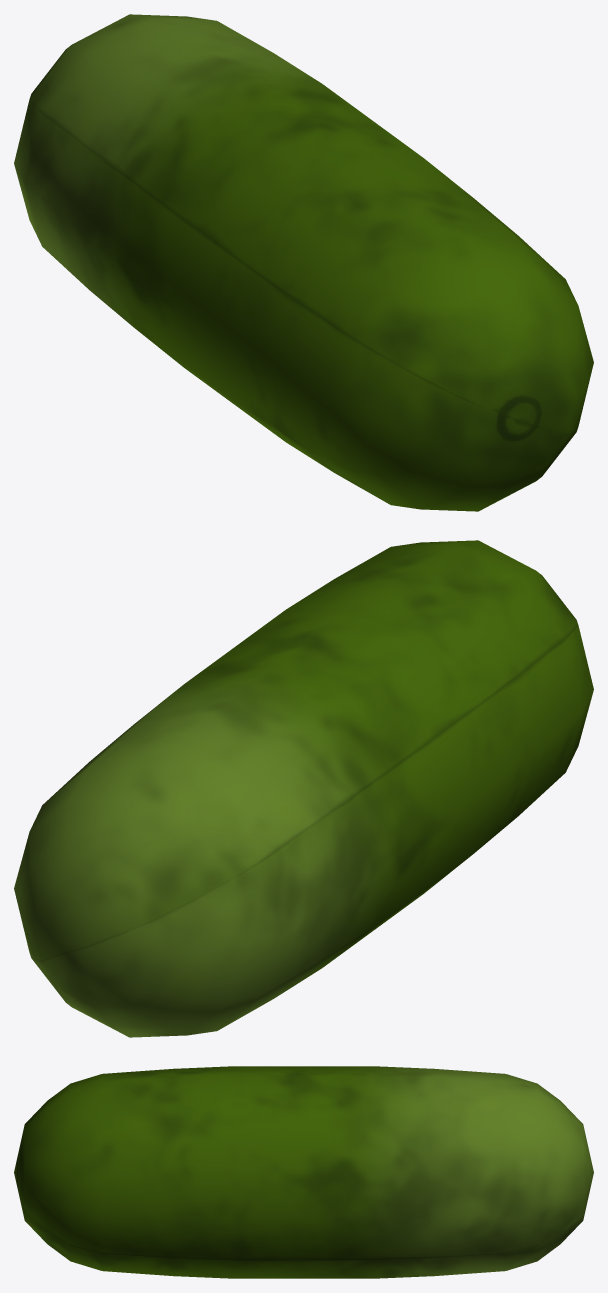
Rendered from CucumberA.glb.
The picture shows the model from 3 angles, top to bottom: view 1: azimuth 30°, elevation 25°; view 2: azimuth 150°, elevation 25°; view 3: azimuth 270°, elevation 25°; orthographic projection. The views are drawn at different scales.
Parts seen in each view (by area): view 1: CucumberA_Cucumber_0; view 2: CucumberA_Cucumber_0; view 3: CucumberA_Cucumber_0.
Part boxes in pixels (bbox=[...]): CucumberA_Cucumber_0: bbox=[14, 14, 593, 511]; CucumberA_Cucumber_0: bbox=[14, 540, 593, 1037]; CucumberA_Cucumber_0: bbox=[14, 1066, 593, 1278].
Size of the model in its own units: 0.4863 by 0.4863 by 1.32.
Materials: 1 (1 with a texture image).
